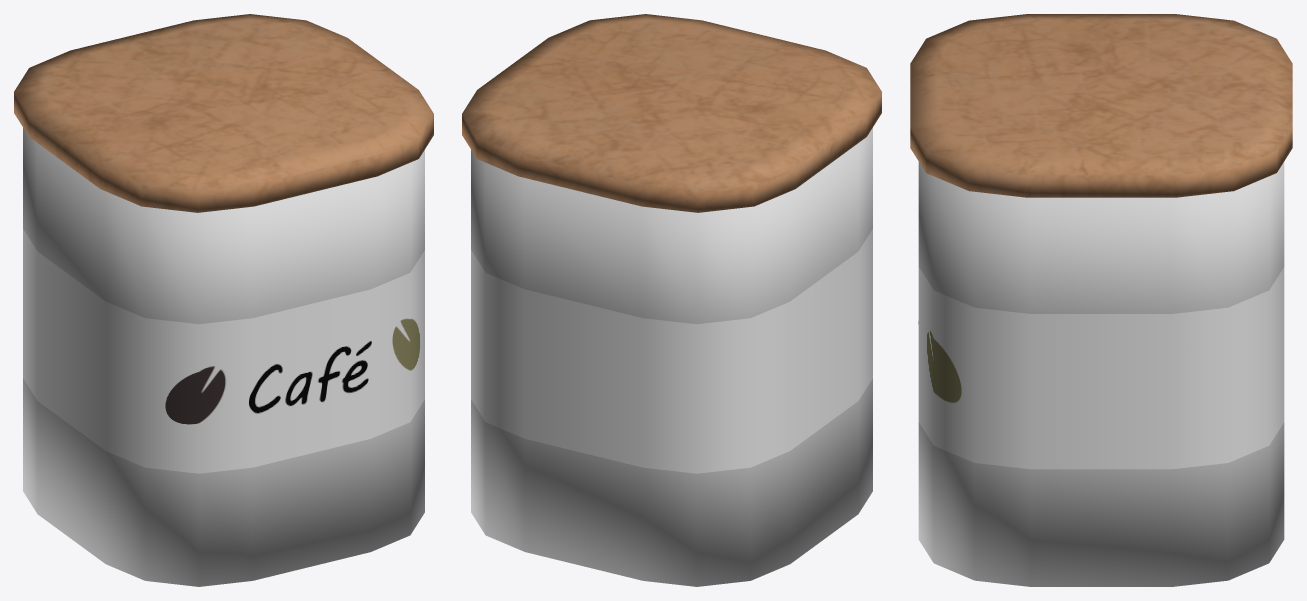
Rendered from model_Pote-de-Cafe_01.fbx.
3 views of the same model, side by side, from view 1: azimuth 30°, elevation 25°; view 2: azimuth 150°, elevation 25°; view 3: azimuth 270°, elevation 25° (orthographic). The views are drawn at different scales.
Visible parts, largest first — view 1: Cube; view 2: Cube; view 3: Cube.
Boxes of the visible parts, bbox=[...] form: Cube: bbox=[14, 14, 433, 586]; Cube: bbox=[462, 14, 881, 586]; Cube: bbox=[910, 14, 1292, 586].
Size of the model in its own units: 209 by 254 by 209.
4 materials, 2 textured.
